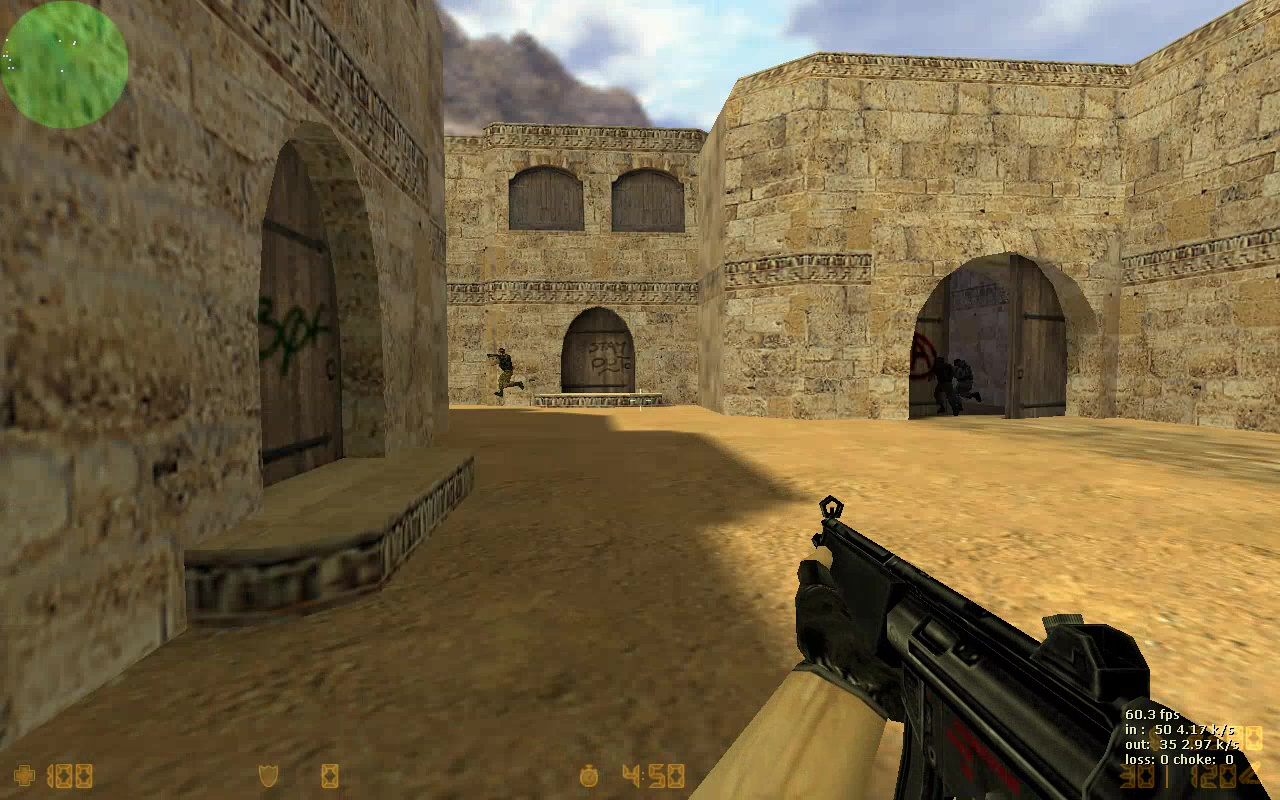terr1: (490, 346, 521, 399)
terr2: (954, 357, 981, 400)
